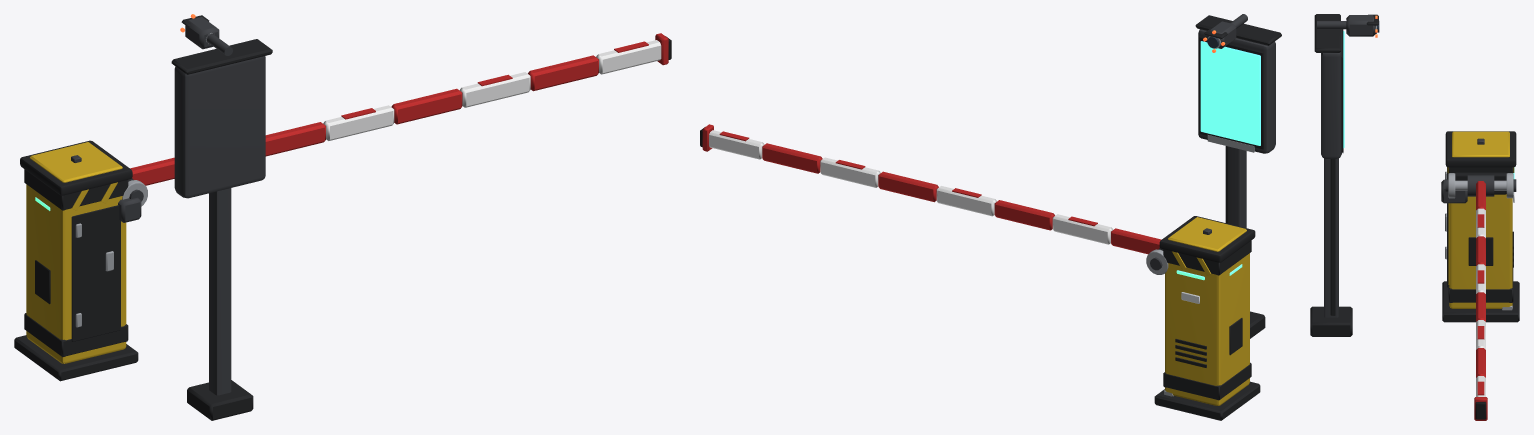
The model's file is barrier_gate.glb.
3 renders of one model, left to right at view 1: azimuth 30°, elevation 25°; view 2: azimuth 150°, elevation 25°; view 3: azimuth 270°, elevation 25°, orthographic. The views are drawn at different scales.
Visible parts, largest first — view 1: Box, DisplayBox, Arm, DisplayPole, CamHead, Hinge; view 2: Box, Arm, DisplayScreen, DisplayBox, DisplayPole, CamHead; view 3: Box, DisplayPole, DisplayBox, Arm, Hinge, CamHead, DisplayScreen.
Boxes of the visible parts, <box> form: Box: <box>14,140,138,381</box>; DisplayBox: <box>171,39,272,198</box>; Arm: <box>71,33,671,185</box>; DisplayPole: <box>187,188,253,420</box>; CamHead: <box>181,15,232,55</box>; Hinge: <box>118,180,147,222</box>; Box: <box>1154,216,1260,420</box>; Arm: <box>700,124,1211,254</box>; DisplayScreen: <box>1200,41,1260,145</box>; DisplayBox: <box>1195,15,1281,153</box>; DisplayPole: <box>1225,146,1265,338</box>; CamHead: <box>1204,14,1247,48</box>; Box: <box>1442,131,1519,322</box>; DisplayPole: <box>1310,158,1352,336</box>; DisplayBox: <box>1314,14,1343,158</box>; Arm: <box>1467,138,1494,420</box>; Hinge: <box>1441,173,1516,203</box>; CamHead: <box>1317,14,1378,36</box>; DisplayScreen: <box>1343,31,1344,148</box>.
Bounding box in the file's own units: 3.48 × 1.96 × 1.19.
